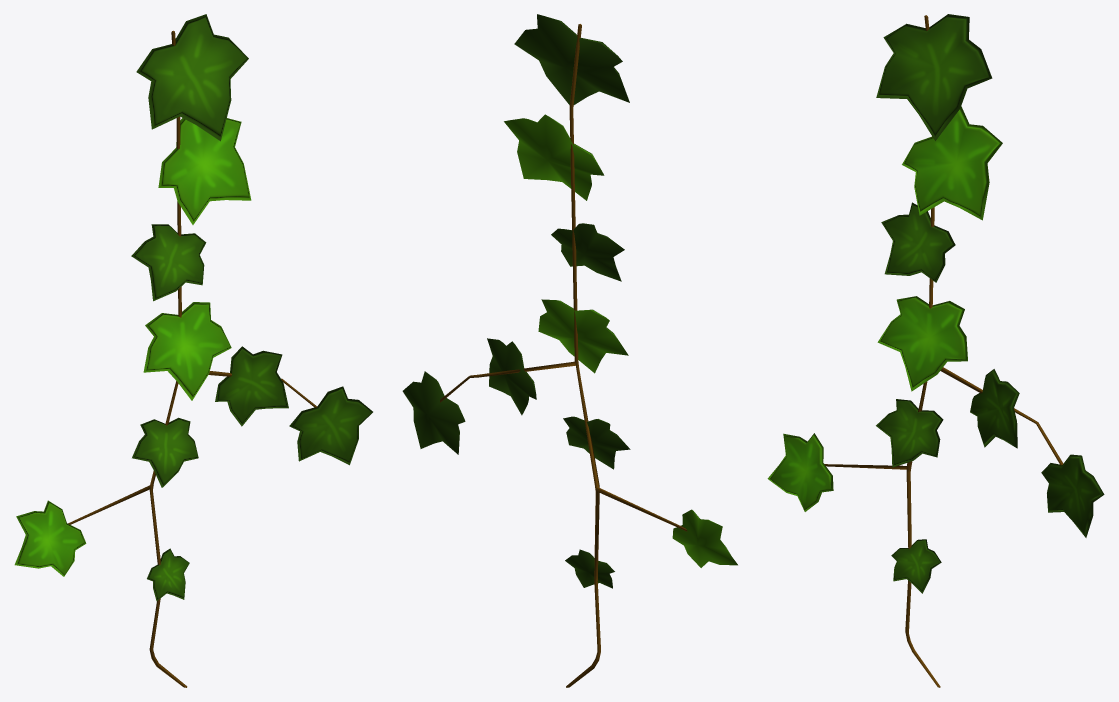
Rendered from Model_Bg_lvy.fbx.
3 views of the same model, side by side, from view 1: azimuth 30°, elevation 25°; view 2: azimuth 150°, elevation 25°; view 3: azimuth 330°, elevation 25° (orthographic).
Parts seen in each view (by area): view 1: pCube2, pCube6, pCube8, pCube4, pCube5, pCube7, pCube9, pCube3, pCylinder1, pCube1; view 2: pCube2, pCube6, pCylinder1, pCube8, pCube4, pCube7, pCube5, pCube9, pCube3, pCube1; view 3: pCube2, pCube6, pCube8, pCube7, pCube9, pCube4, pCube3, pCube5, pCylinder1, pCube1.
Part boxes in pixels (<box>): pCube2: <box>136,14,248,141</box>; pCube6: <box>158,118,251,224</box>; pCube8: <box>143,302,231,400</box>; pCube4: <box>289,386,372,465</box>; pCube5: <box>215,346,288,426</box>; pCube7: <box>131,224,206,301</box>; pCube9: <box>14,500,86,576</box>; pCube3: <box>132,417,198,487</box>; pCylinder1: <box>68,30,316,687</box>; pCube1: <box>147,548,189,601</box>; pCube2: <box>514,14,629,104</box>; pCube6: <box>504,114,604,200</box>; pCylinder1: <box>440,24,687,687</box>; pCube8: <box>538,299,628,373</box>; pCube4: <box>402,371,465,454</box>; pCube7: <box>551,223,624,281</box>; pCube5: <box>487,338,536,415</box>; pCube9: <box>672,509,737,567</box>; pCube3: <box>563,416,630,469</box>; pCube1: <box>565,549,614,588</box>; pCube2: <box>876,14,992,140</box>; pCube6: <box>902,106,1002,220</box>; pCube8: <box>877,296,967,391</box>; pCube7: <box>881,202,955,282</box>; pCube9: <box>767,433,833,511</box>; pCube4: <box>1041,454,1104,537</box>; pCube3: <box>876,399,943,467</box>; pCube5: <box>970,369,1019,448</box>; pCylinder1: <box>824,15,1063,687</box>; pCube1: <box>891,539,941,593</box>.
Bounding box in the file's own units: 54.99 × 101 × 7.66.
